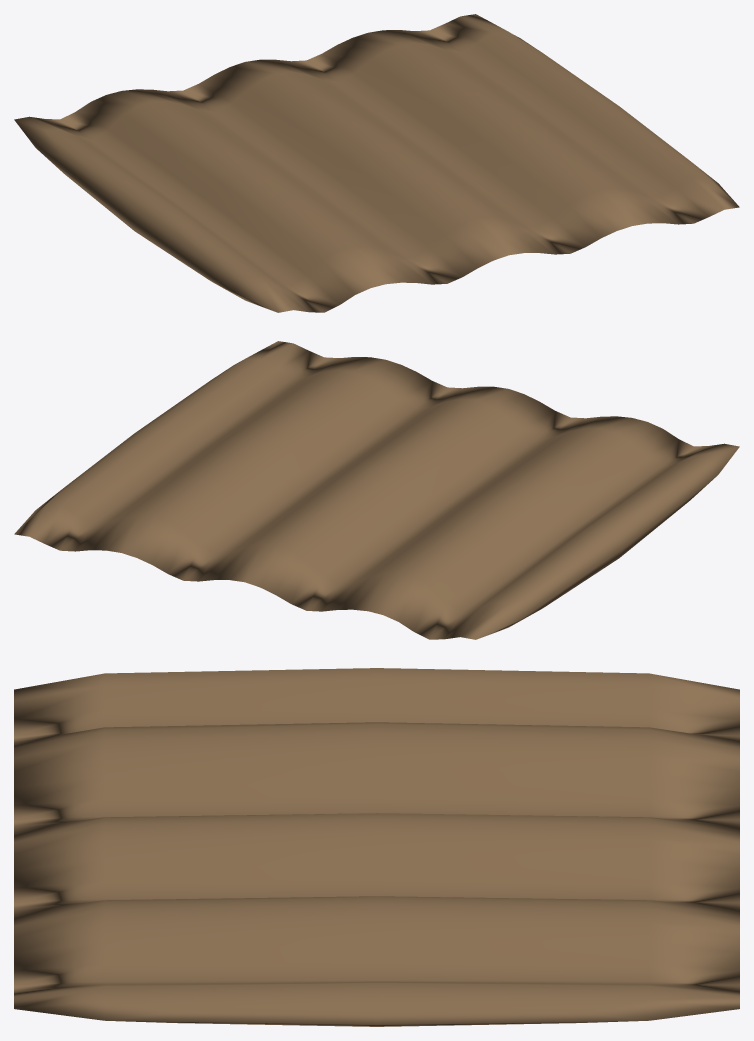
Rendered from Empty_feeld.fbx.
3 views of the same model, one above another, from view 1: azimuth 30°, elevation 25°; view 2: azimuth 150°, elevation 25°; view 3: azimuth 270°, elevation 25° (orthographic). The views are drawn at different scales.
Parts seen in each view (by area): view 1: tomtfält; view 2: tomtfält; view 3: tomtfält.
Boxes of the visible parts, <box> form: tomtfält: <box>14,14,739,312</box>; tomtfält: <box>14,341,739,639</box>; tomtfält: <box>14,668,739,1026</box>.
Size of the model in its own units: 18.63 by 1.31 by 17.31.
